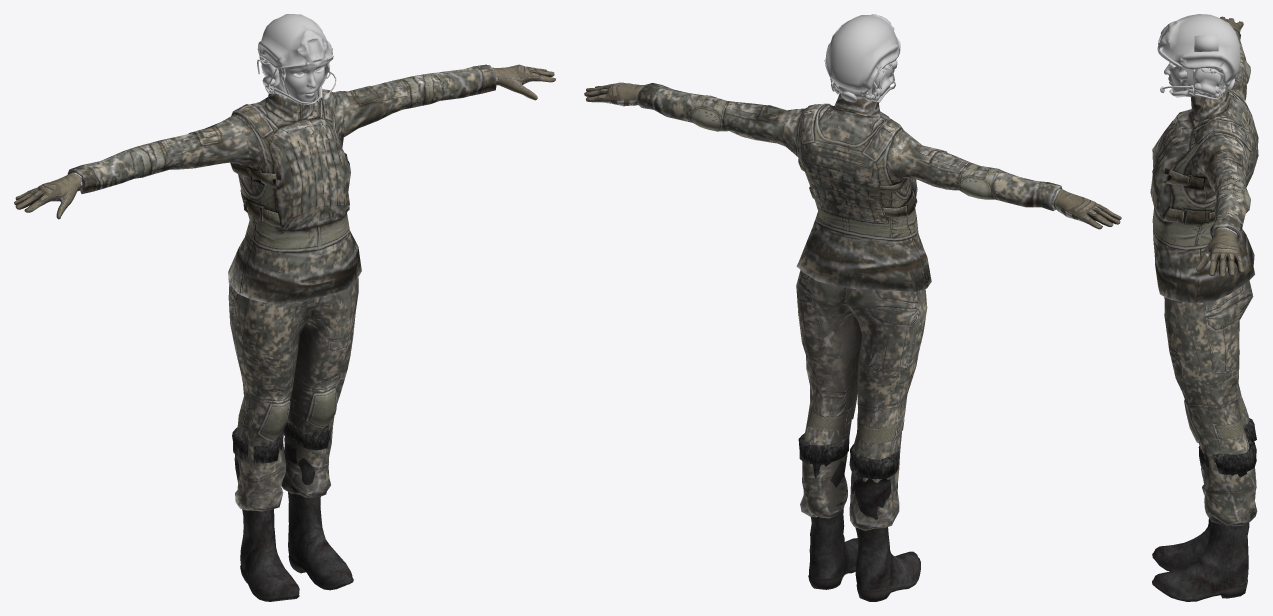
3 renders of one model, left to right at view 1: azimuth 30°, elevation 25°; view 2: azimuth 150°, elevation 25°; view 3: azimuth 270°, elevation 25°, orthographic.
Parts seen in each view (by area): view 1: Tops, Bottoms, Shoes, Hats, Gloves, Body; view 2: Tops, Bottoms, Shoes, Hats, Gloves; view 3: Tops, Bottoms, Shoes, Hats, Gloves, Body.
Part boxes in pixels (x1=…): Tops: x1=67, y1=64, x2=496, y2=304; Bottoms: x1=228, y1=278, x2=358, y2=511; Shoes: x1=232, y1=418, x2=353, y2=601; Hats: x1=257, y1=14, x2=336, y2=105; Gloves: x1=14, y1=64, x2=555, y2=219; Body: x1=266, y1=60, x2=324, y2=102; Tops: x1=637, y1=83, x2=1062, y2=291; Bottoms: x1=796, y1=270, x2=927, y2=530; Shoes: x1=798, y1=433, x2=920, y2=601; Hats: x1=824, y1=14, x2=900, y2=102; Gloves: x1=584, y1=82, x2=1121, y2=229; Tops: x1=1150, y1=28, x2=1258, y2=303; Bottoms: x1=1164, y1=280, x2=1257, y2=526; Shoes: x1=1152, y1=418, x2=1256, y2=601; Hats: x1=1157, y1=14, x2=1240, y2=99; Gloves: x1=1196, y1=16, x2=1243, y2=277; Body: x1=1164, y1=62, x2=1224, y2=95.
Bounding box in the file's own units: 179 × 181 × 31.35.
